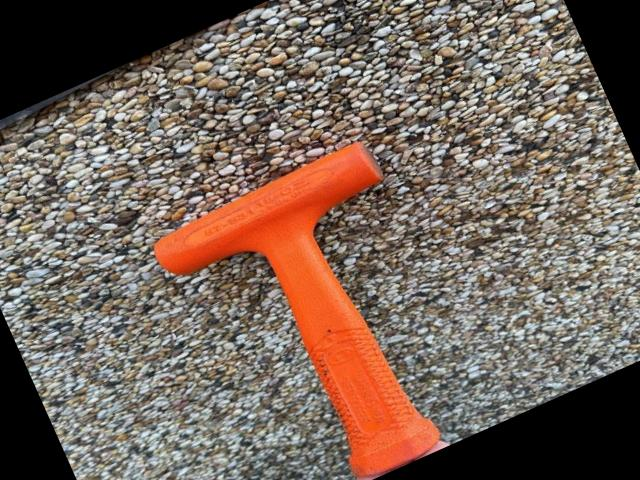hammer: (142, 138, 492, 480)
